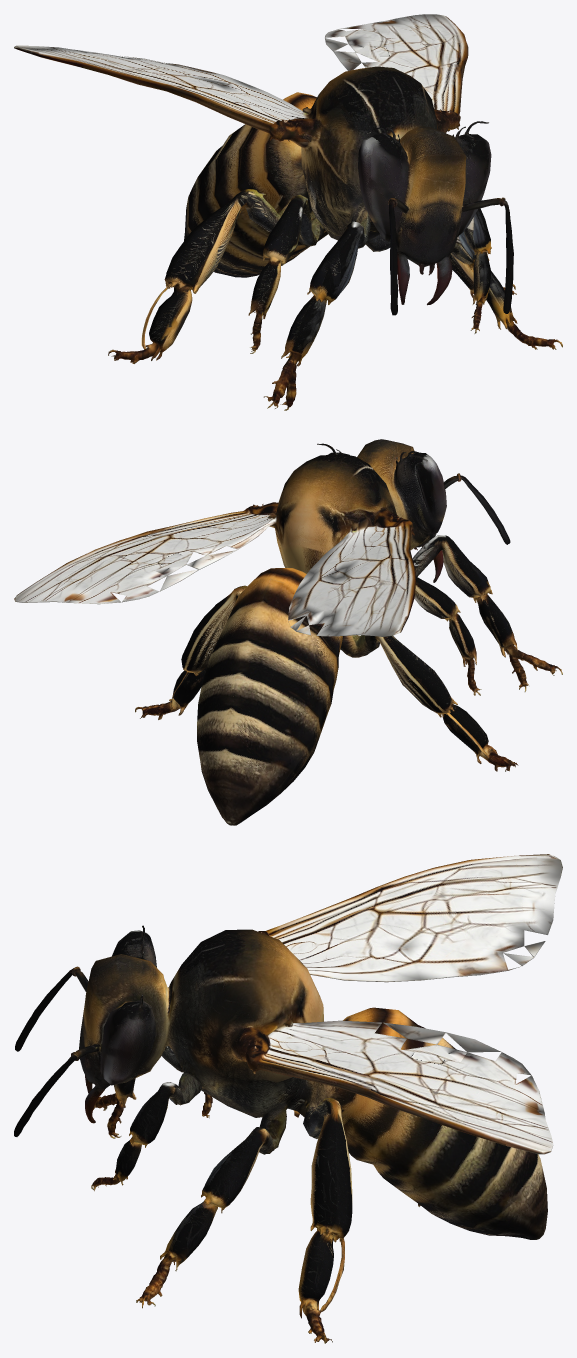
File: bee.glb
The picture shows the model from 3 angles, top to bottom: view 1: azimuth 30°, elevation 25°; view 2: azimuth 150°, elevation 25°; view 3: azimuth 270°, elevation 25°; orthographic projection. The views are drawn at different scales.
Parts seen in each view (by area): view 1: BeeBody, BeeWingR, BeeWingL; view 2: BeeBody, BeeWingR, BeeWingL; view 3: BeeBody, BeeWingR, BeeWingL.
Boxes of the visible parts, bbox=[...] form: BeeBody: bbox=[108, 14, 562, 410]; BeeWingR: bbox=[14, 45, 288, 128]; BeeWingL: bbox=[249, 49, 468, 305]; BeeBody: bbox=[14, 439, 562, 825]; BeeWingR: bbox=[288, 528, 415, 636]; BeeWingL: bbox=[215, 490, 507, 657]; BeeBody: bbox=[14, 925, 553, 1343]; BeeWingR: bbox=[280, 854, 562, 982]; BeeWingL: bbox=[86, 987, 527, 1151].
Bounding box in the file's own units: 2 × 1.27 × 2.
Materials: 1 (1 with a texture image).
